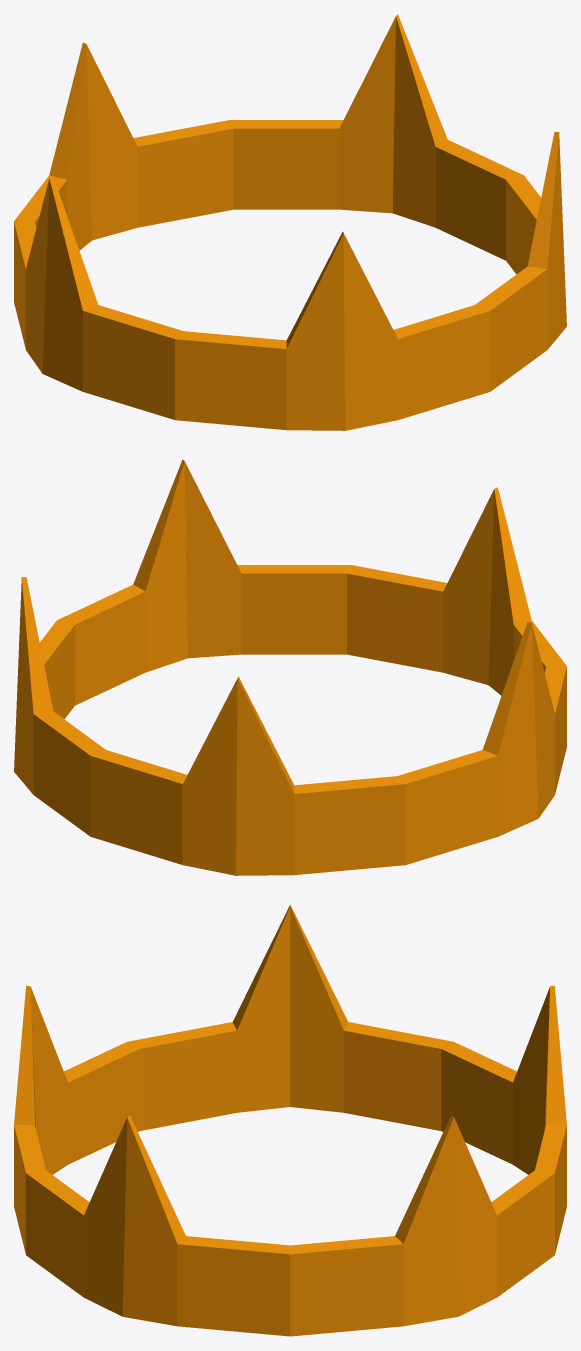
Rendered from crown.fbx.
The picture shows the model from 3 angles, top to bottom: view 1: azimuth 30°, elevation 25°; view 2: azimuth 150°, elevation 25°; view 3: azimuth 270°, elevation 25°; orthographic projection.
Parts seen in each view (by area): view 1: crown; view 2: crown; view 3: crown.
Part boxes in pixels (x1=…): crown: x1=14, y1=14, x2=566, y2=430; crown: x1=14, y1=459, x2=566, y2=875; crown: x1=14, y1=905, x2=566, y2=1336.
Bounding box in the file's own units: 18.66 × 7.2 × 18.3.
